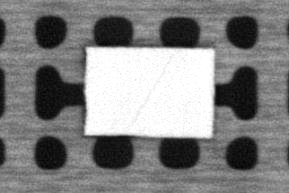DIE_CRACK: (129, 54, 174, 128)
